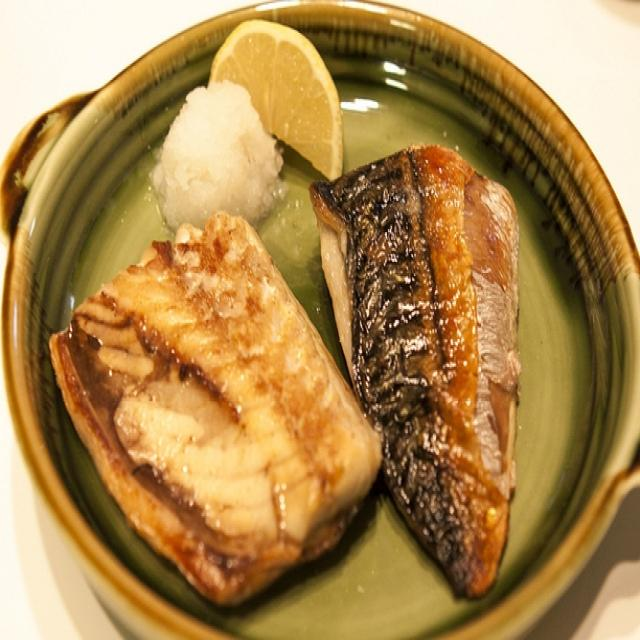熟制海鲜: (23, 35, 612, 621)
